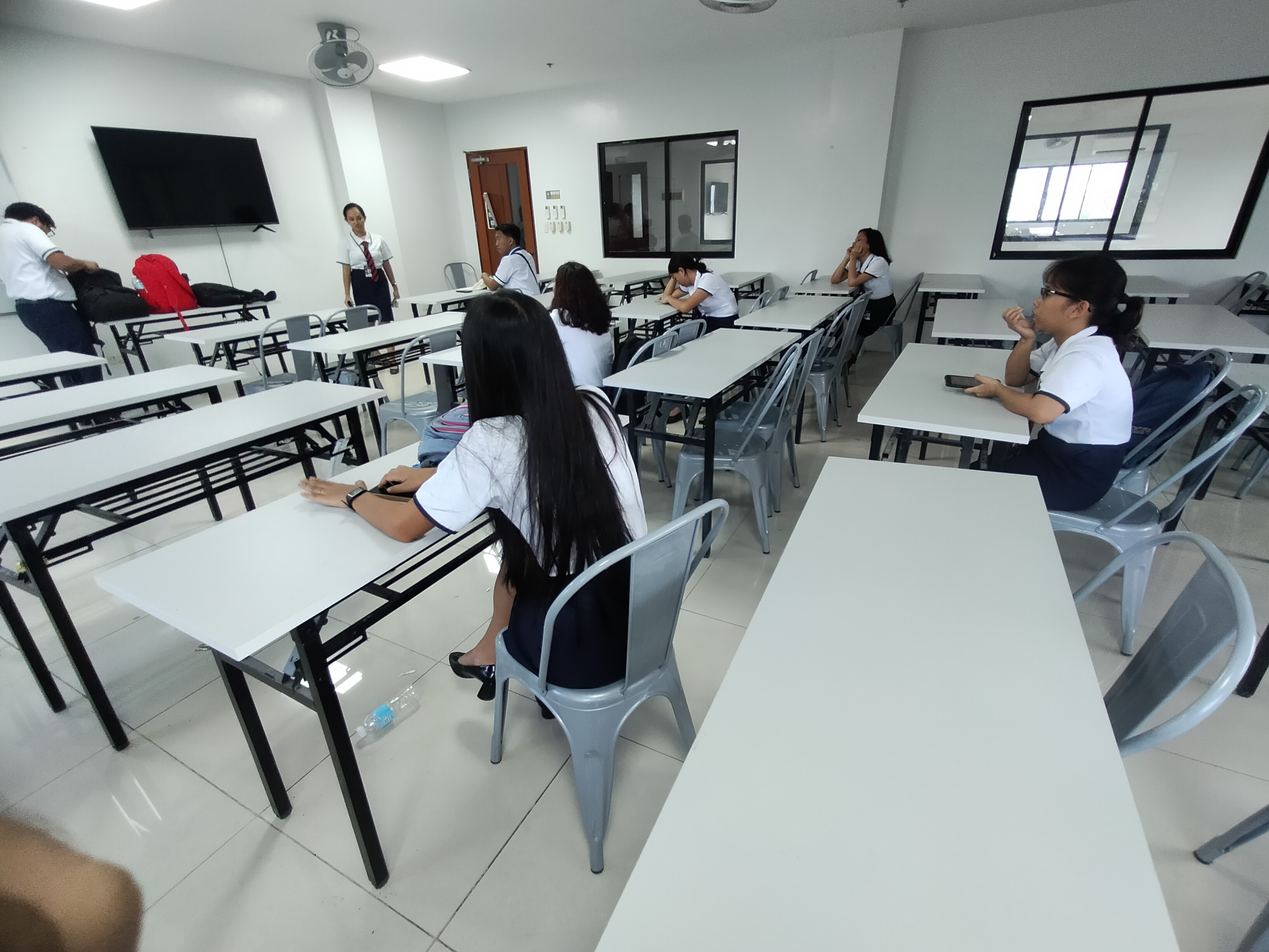with-student: (99, 288, 648, 710), (860, 249, 1151, 533), (420, 259, 629, 402), (394, 221, 541, 308), (607, 251, 739, 335), (795, 224, 899, 328)
